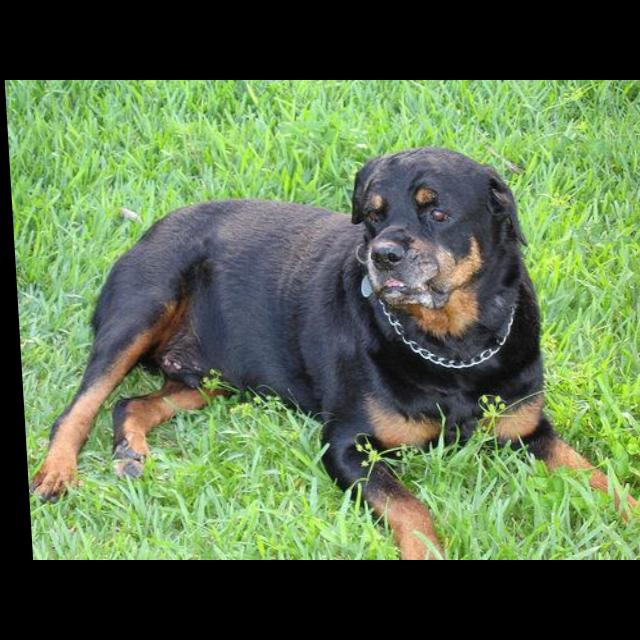rottweiler: (8, 145, 640, 559)
